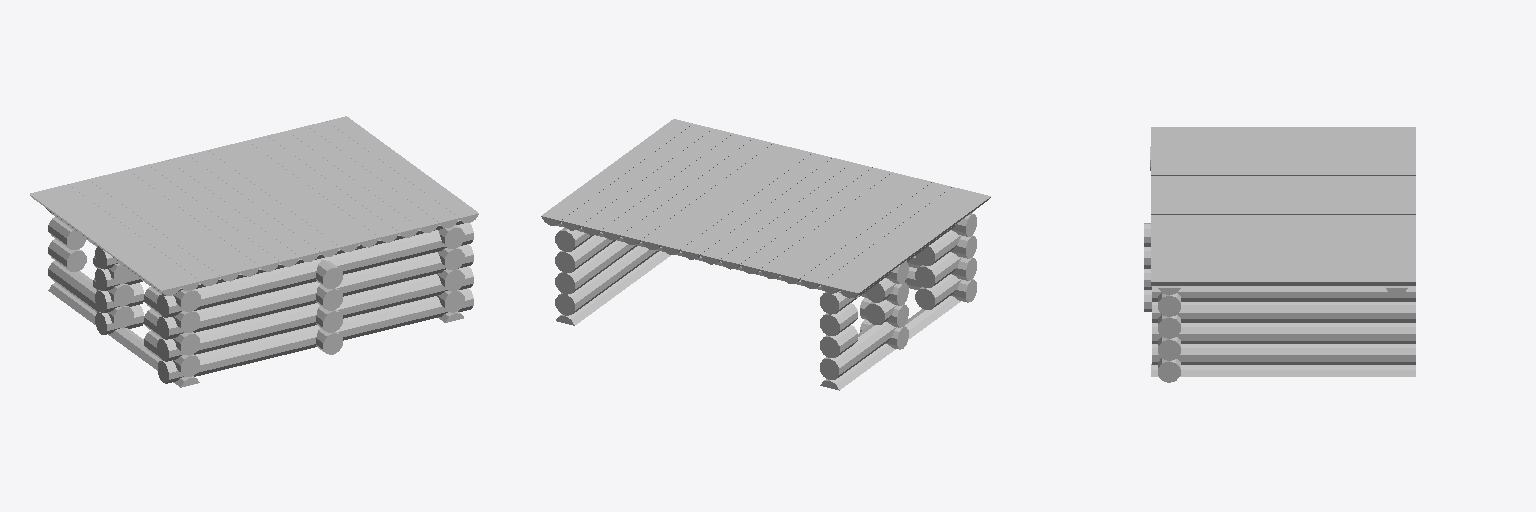
File: Dews Houseblend minus Right Wall.obj
3 renders of one model, left to right at view 1: azimuth 30°, elevation 25°; view 2: azimuth 150°, elevation 25°; view 3: azimuth 270°, elevation 25°, orthographic.
Parts seen in each view (by area): view 1: Cylinder.021, Cylinder.023, Cylinder.011, Cylinder.022, Cylinder.024, Cylinder.030, Cylinder.038, Cylinder.027, Cylinder.028, Cylinder.034, Cylinder.035, Cylinder.033 (+20 smaller); view 2: Cylinder.024, Cylinder.030, Cylinder.037, Cylinder.025, Cylinder.026, Cylinder.031, Cylinder.033, Cylinder.035, Cylinder.027, Cylinder.034, Cylinder.028, Cylinder.038 (+20 smaller); view 3: Cylinder.041, Cylinder.040, Cylinder.042, Cylinder.043, Cylinder.033, Cylinder.039, Cylinder.024, Cylinder.025, Cylinder.026, Cylinder.027, Cylinder.029, Cylinder.030 (+9 smaller).
Part boxes in pixels (left/top/right/bottom): Cylinder.021: left=157, top=223, right=473, bottom=317; Cylinder.023: left=157, top=266, right=473, bottom=361; Cylinder.011: left=158, top=288, right=473, bottom=383; Cylinder.022: left=157, top=244, right=473, bottom=339; Cylinder.024: left=30, top=189, right=180, bottom=295; Cylinder.030: left=168, top=155, right=319, bottom=261; Cylinder.038: left=267, top=131, right=418, bottom=237; Cylinder.027: left=148, top=160, right=299, bottom=266; Cylinder.028: left=128, top=165, right=279, bottom=271; Cylinder.034: left=308, top=121, right=458, bottom=227; Cylinder.035: left=288, top=126, right=438, bottom=232; Cylinder.033: left=327, top=116, right=478, bottom=222; Cylinder.024: left=839, top=192, right=990, bottom=298; Cylinder.030: left=700, top=158, right=852, bottom=264; Cylinder.037: left=621, top=138, right=772, bottom=244; Cylinder.025: left=800, top=182, right=951, bottom=288; Cylinder.026: left=780, top=177, right=931, bottom=283; Cylinder.031: left=680, top=153, right=831, bottom=259; Cylinder.033: left=541, top=119, right=692, bottom=225; Cylinder.035: left=581, top=129, right=732, bottom=235; Cylinder.027: left=720, top=163, right=872, bottom=269; Cylinder.034: left=561, top=124, right=712, bottom=230; Cylinder.028: left=740, top=168, right=891, bottom=273; Cylinder.038: left=601, top=133, right=752, bottom=239; Cylinder.041: left=1152, top=323, right=1415, bottom=343; Cylinder.040: left=1152, top=344, right=1415, bottom=364; Cylinder.042: left=1152, top=302, right=1415, bottom=322; Cylinder.043: left=1152, top=286, right=1415, bottom=301; Cylinder.033: left=1151, top=273, right=1415, bottom=285; Cylinder.039: left=1151, top=364, right=1415, bottom=376; Cylinder.024: left=1151, top=127, right=1415, bottom=136; Cylinder.025: left=1151, top=146, right=1415, bottom=155; Cylinder.026: left=1151, top=156, right=1415, bottom=165; Cylinder.027: left=1151, top=185, right=1415, bottom=194; Cylinder.029: left=1151, top=166, right=1415, bottom=175; Cylinder.030: left=1151, top=195, right=1415, bottom=204.
Bounding box in the file's own units: 11.56 × 3.56 × 8.59.